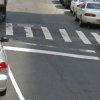Car: (62, 1, 100, 26)
